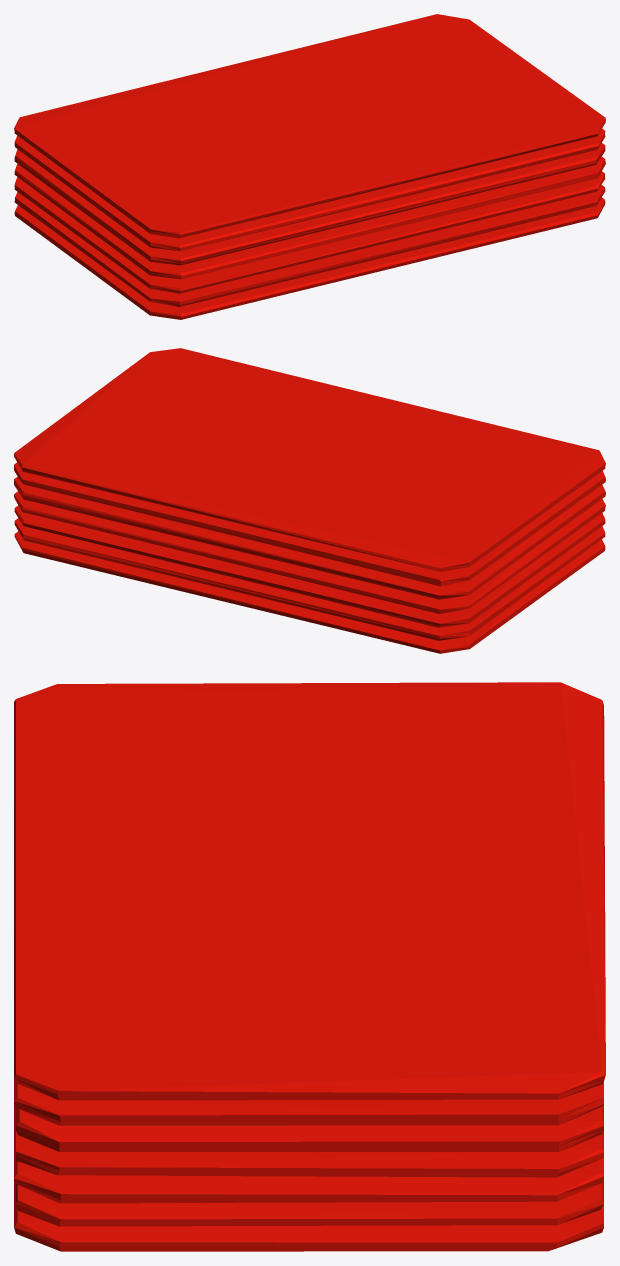
Rendered from Cartas.fbx.
3 renders of one model, top to bottom at view 1: azimuth 30°, elevation 25°; view 2: azimuth 150°, elevation 25°; view 3: azimuth 270°, elevation 25°, orthographic. The views are drawn at different scales.
Parts seen in each view (by area): view 1: Cartas; view 2: Cartas; view 3: Cartas.
Part boxes in pixels (<box>): Cartas: <box>14,14,605,319</box>; Cartas: <box>14,348,605,653</box>; Cartas: <box>14,682,605,1251</box>.
Bounding box in the file's own units: 0.3 × 0.0554 × 0.184.
